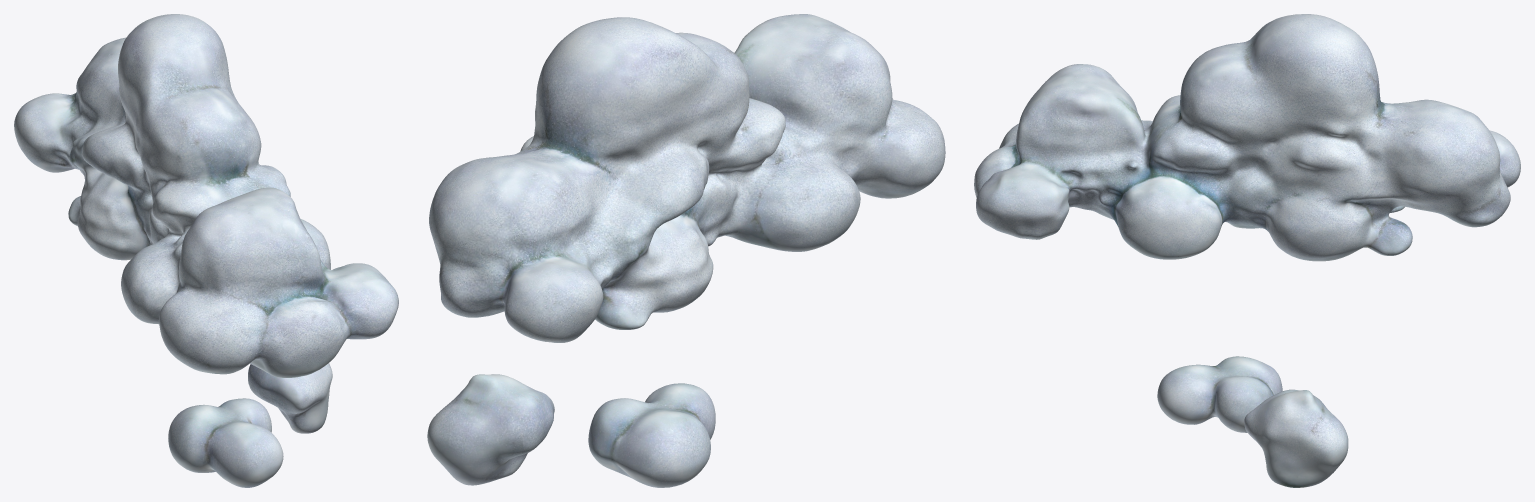
The model's file is nube.glb.
3 views of the same model, side by side, from view 1: azimuth 30°, elevation 25°; view 2: azimuth 150°, elevation 25°; view 3: azimuth 270°, elevation 25° (orthographic). The views are drawn at different scales.
Visible parts, largest first — view 1: model; view 2: model; view 3: model.
Part boxes in pixels (box(x1,y1,x2,y2)): model: box(14, 14, 398, 487); model: box(427, 14, 945, 487); model: box(974, 14, 1520, 487).
Bounding box in the file's own units: 1.07 × 1.48 × 1.81.
1 material, 1 textured.
